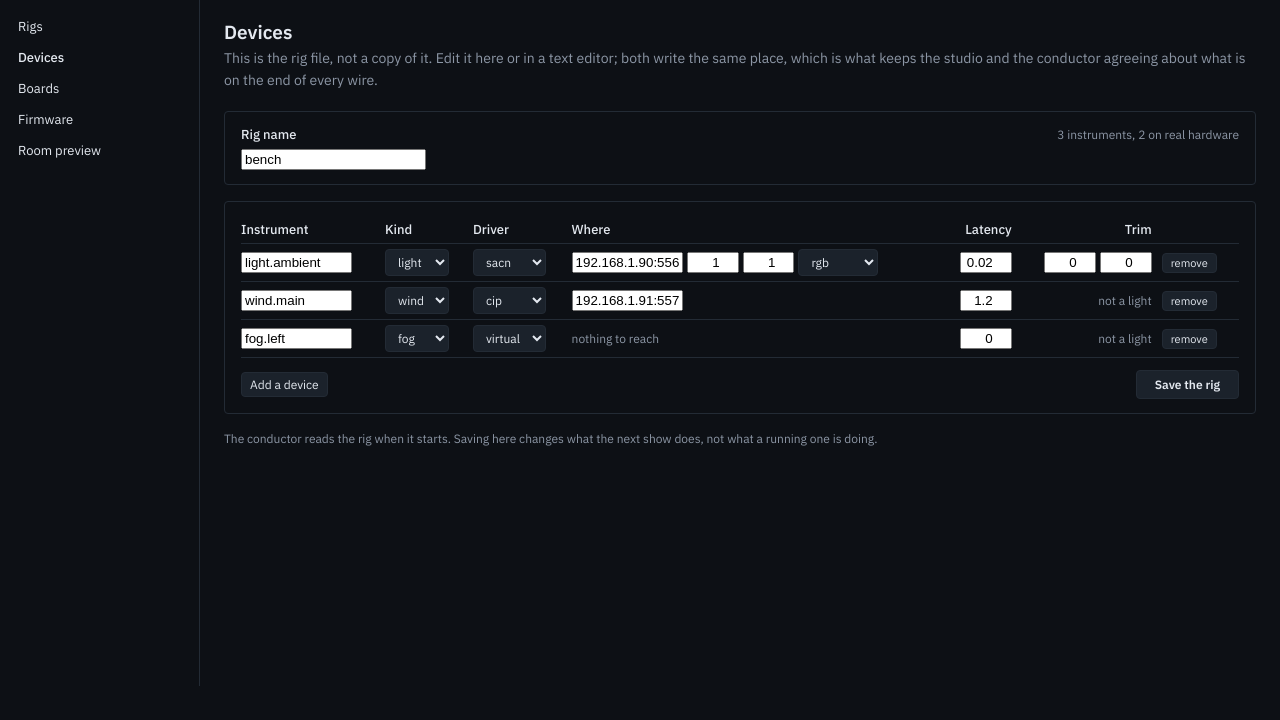
Test case: devices › shows a plain message from the server, which is most of them
The width and height of the screenshot is (1280, 720).
expect the field named "Instrument 1 id" is shown: met, box [241, 252, 352, 273]
Replace the text in the field named "Instrument 2 address" with "10.0.0.1:5570": (627, 301) [572, 290, 683, 311]
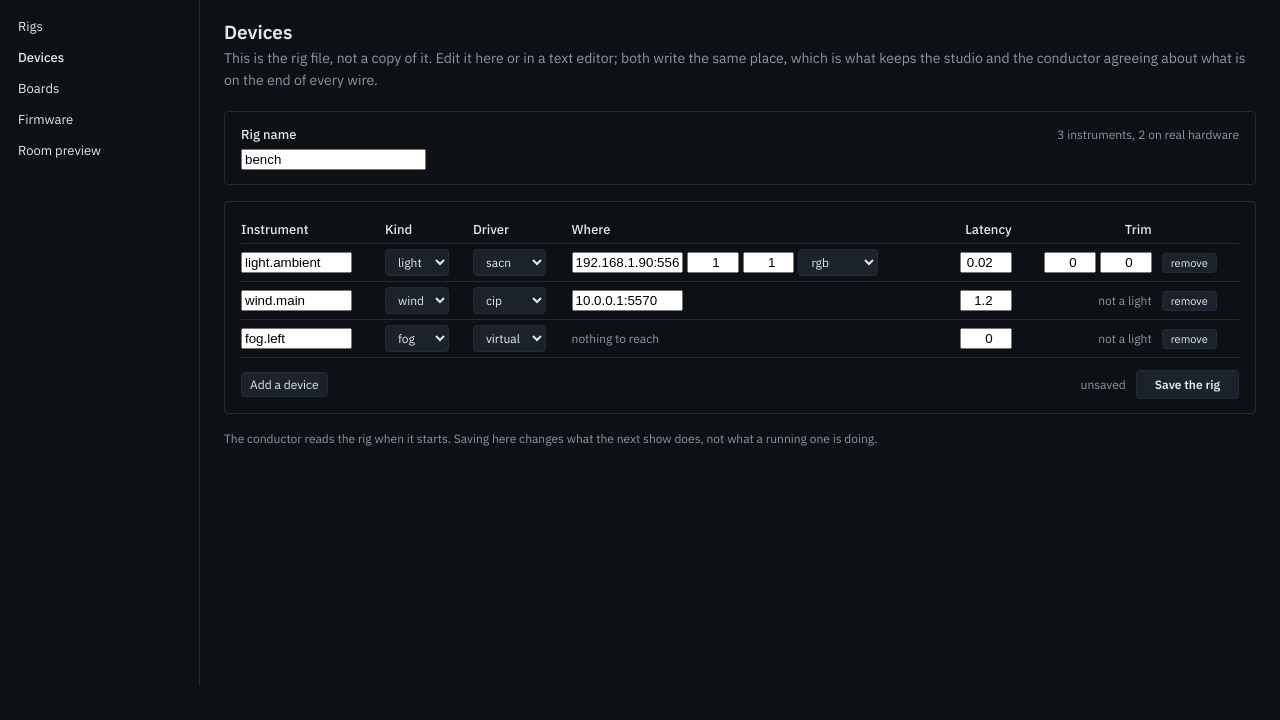
Click the button "Save the rig": click(1187, 385) [1136, 370, 1239, 399]
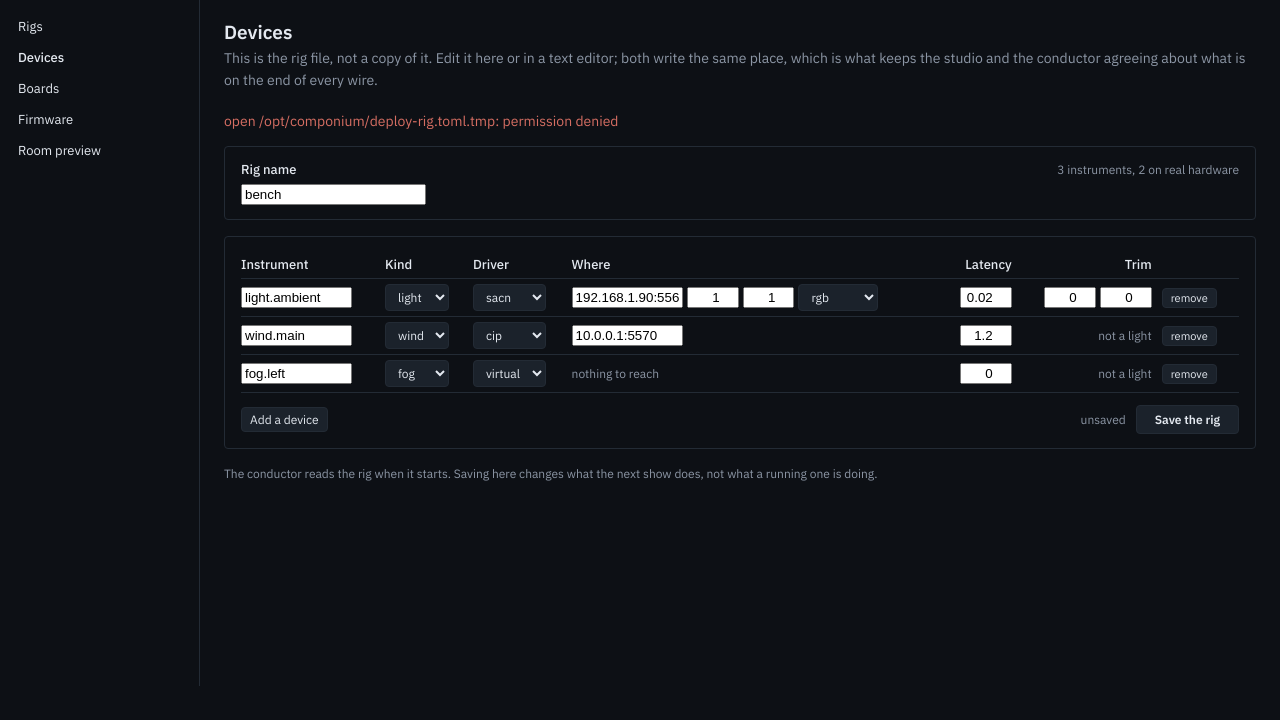
expect the text "open /opt/componium/deploy-rig.toml.tmp: permission denied" is shown: met, box [224, 112, 618, 130]
